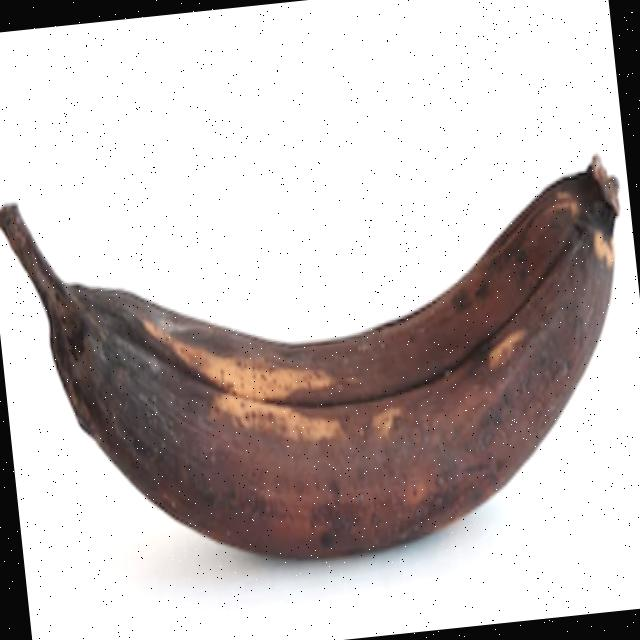Rotten: (0, 101, 640, 603)
